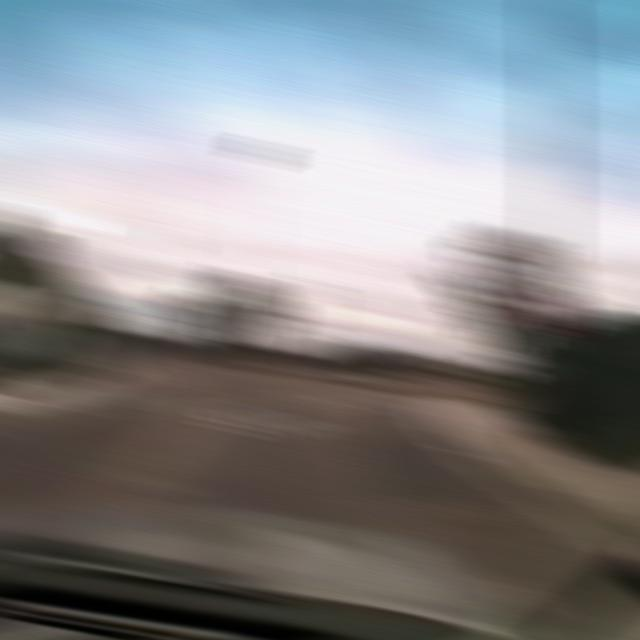stop: (521, 287, 578, 341)
